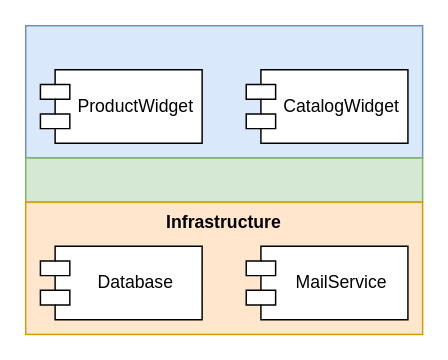
This 448x360 diagram has some shape labels left out. Each missing label, with the box of its shape:
Business: (24, 157, 423, 202)
Presentation: (24, 24, 423, 158)
